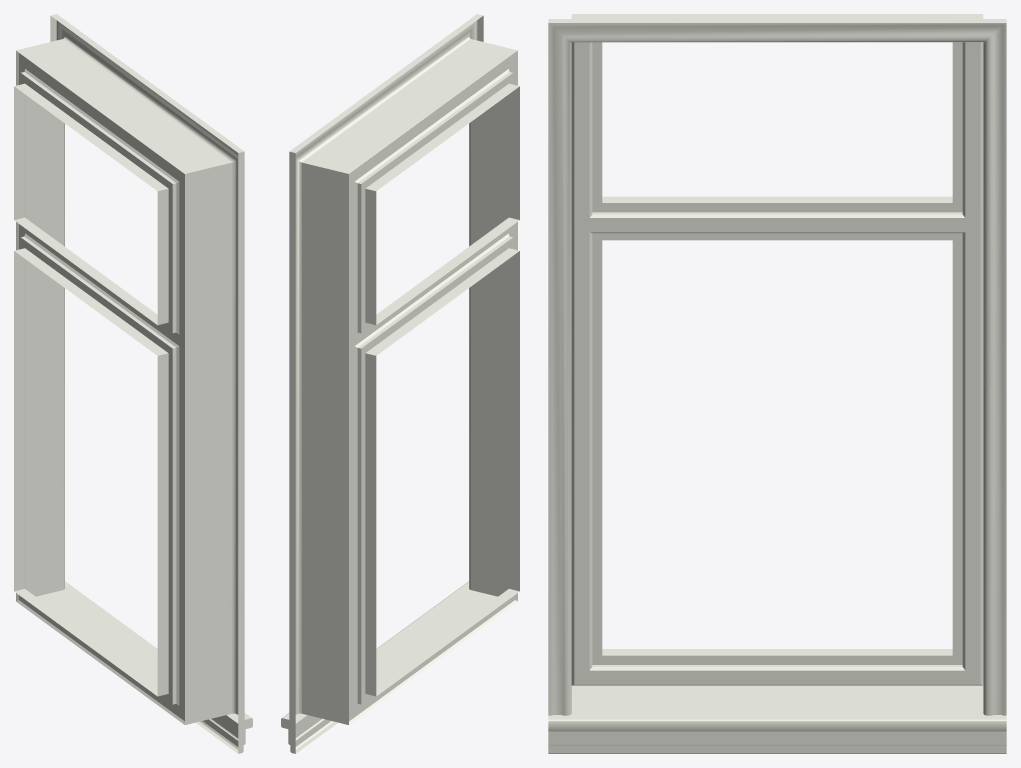
File: window4.obj
The picture shows the model from 3 angles, left to right: view 1: azimuth 30°, elevation 25°; view 2: azimuth 150°, elevation 25°; view 3: azimuth 270°, elevation 25°; orthographic projection. The views are drawn at different scales.
Bounding box in the file's own units: 65.22 × 512 × 290.
Materials: 1 (1 with a texture image).
